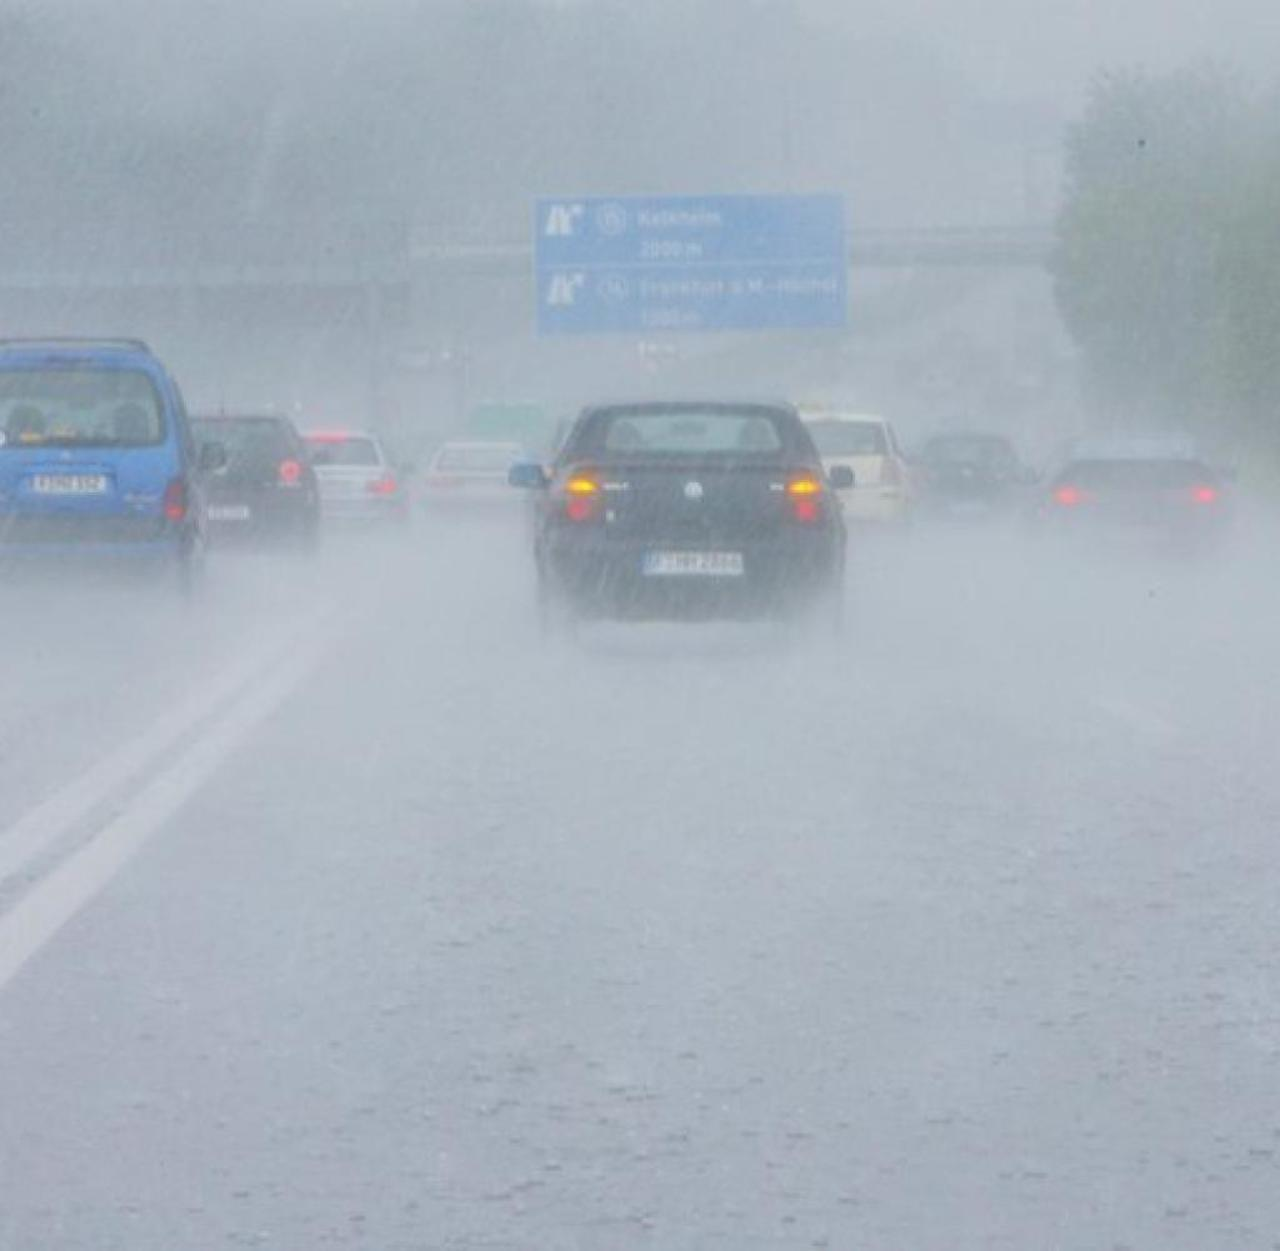car: (533, 396, 841, 642), (2, 343, 206, 581), (1035, 444, 1235, 581), (188, 408, 321, 549), (807, 412, 913, 528), (296, 425, 409, 525), (908, 427, 1028, 521), (413, 436, 545, 516)
